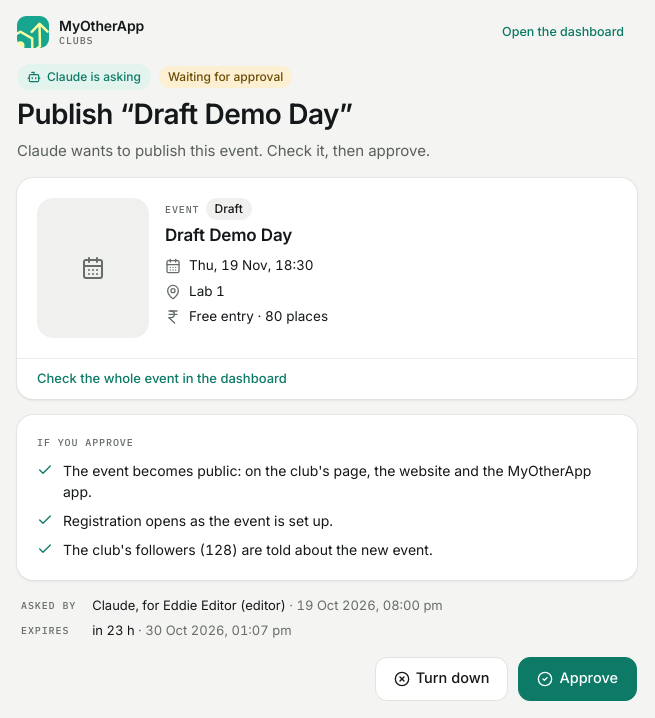
Scenario: a request waiting for approval › turns it down, and says nothing was published
The image size is (655, 718).
Step 1. Click the button "Turn down" → {"x": 442, "y": 679}, box [375,657,508,701]
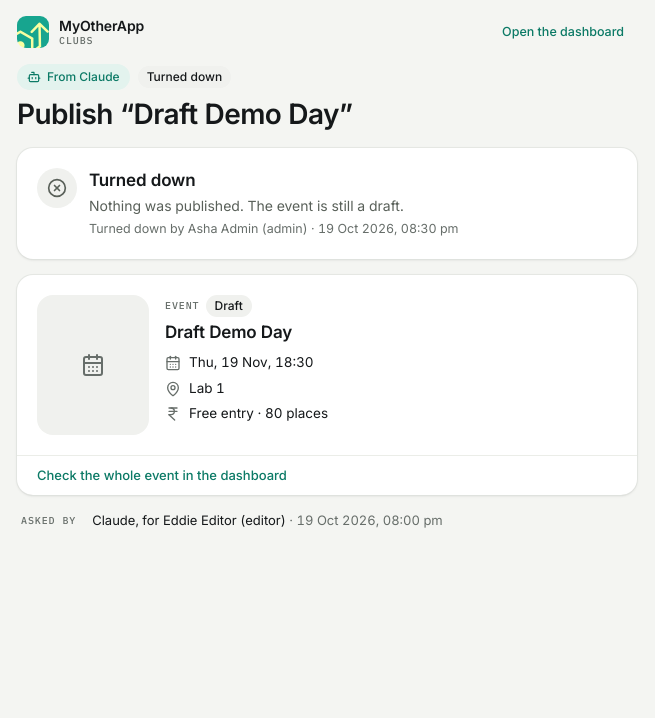
Result: the heading "Turned down" is shown at [89,170,195,190]
Result: the element named "What happened" shows "Nothing was published. The event is still a draft." at [89,197,404,214]
Result: the element named "What happened" shows "Turned down by Asha Admin (admin)" at [17,148,637,259]
